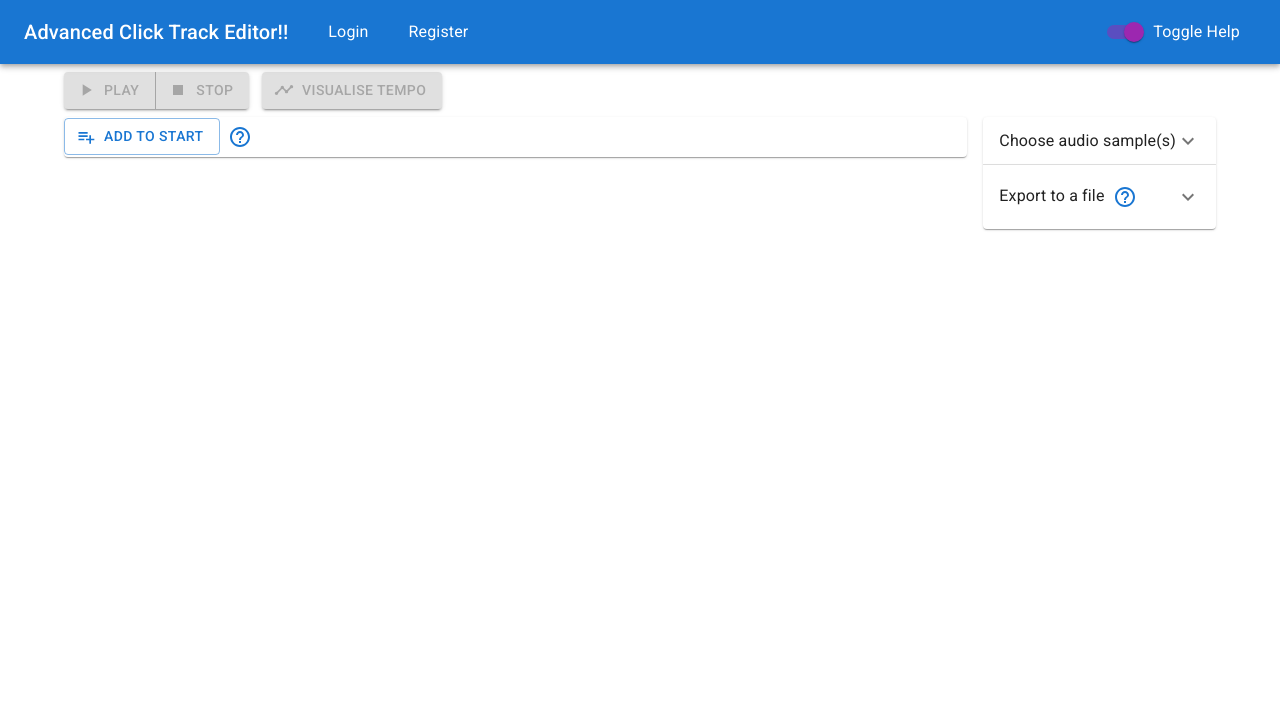
Test case: Clicktrack app › User can open form to add first section
Step 1. Click the button with id "add-to-start" → (142, 137), box 64,118 -> 220,155
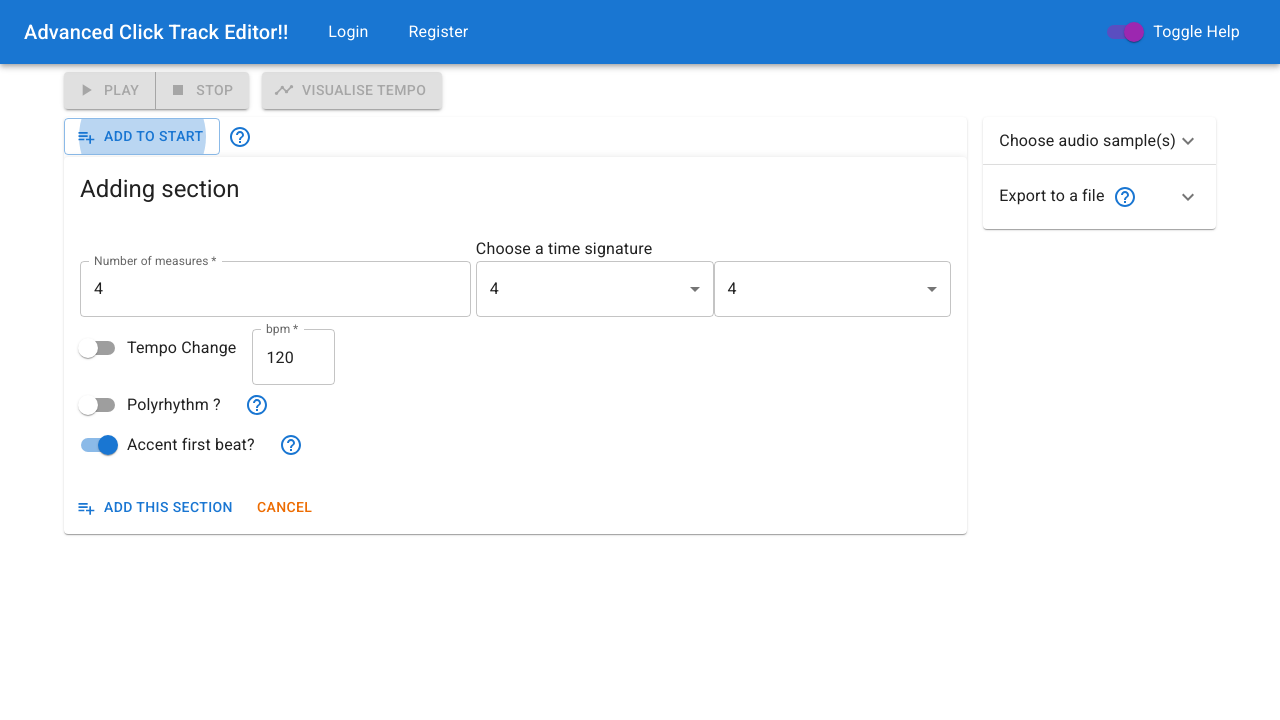
Expected: the text "Adding section" is shown, 80,174 -> 240,202
